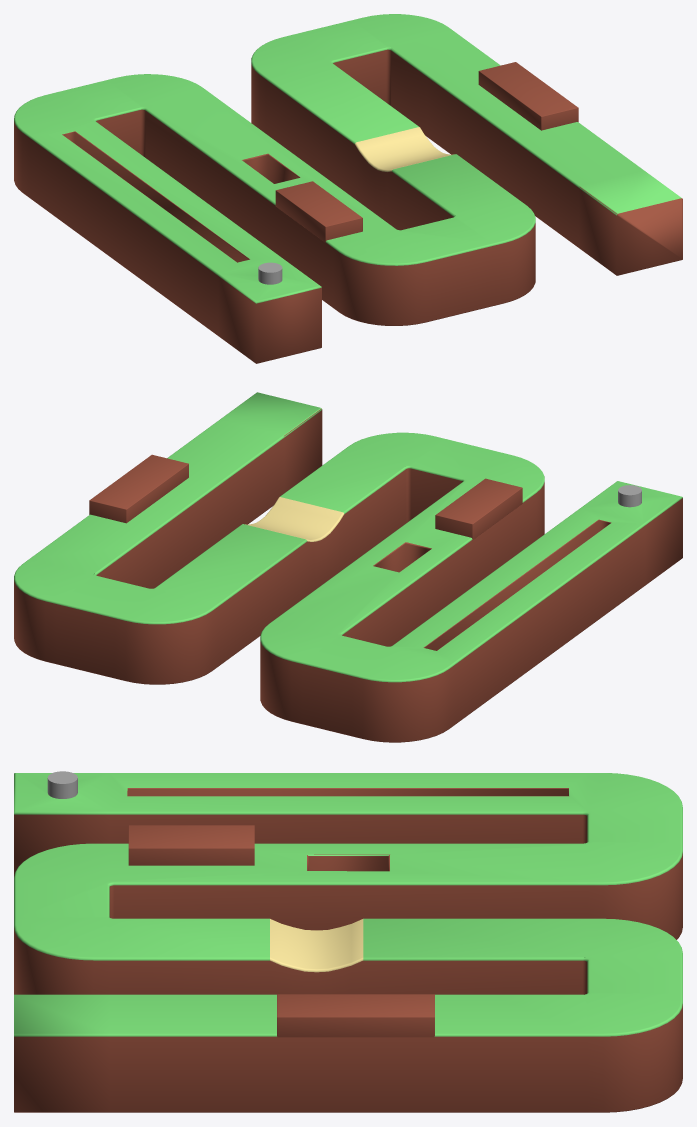
The model's file is Level2.fbx.
3 views of the same model, one above another, from view 1: azimuth 30°, elevation 25°; view 2: azimuth 150°, elevation 25°; view 3: azimuth 270°, elevation 25° (orthographic). The views are drawn at different scales.
Parts seen in each view (by area): view 1: Platform_Level2, Wall1, Wall2; view 2: Platform_Level2, Wall1, Wall2; view 3: Platform_Level2, Wall1, Wall2, Hole.
Boxes of the visible parts, bbox=[...] form: Platform_Level2: bbox=[14, 14, 682, 363]; Wall1: bbox=[478, 62, 578, 130]; Wall2: bbox=[275, 181, 362, 242]; Platform_Level2: bbox=[14, 392, 682, 742]; Wall1: bbox=[89, 454, 188, 523]; Wall2: bbox=[435, 478, 522, 539]; Platform_Level2: bbox=[14, 773, 682, 1112]; Wall1: bbox=[277, 994, 434, 1037]; Wall2: bbox=[128, 825, 254, 865]; Hole: bbox=[47, 771, 77, 798].
Size of the model in its own units: 25.28 by 4.31 by 27.23.
